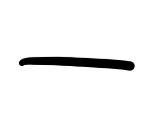minus: (19, 57, 135, 71)
